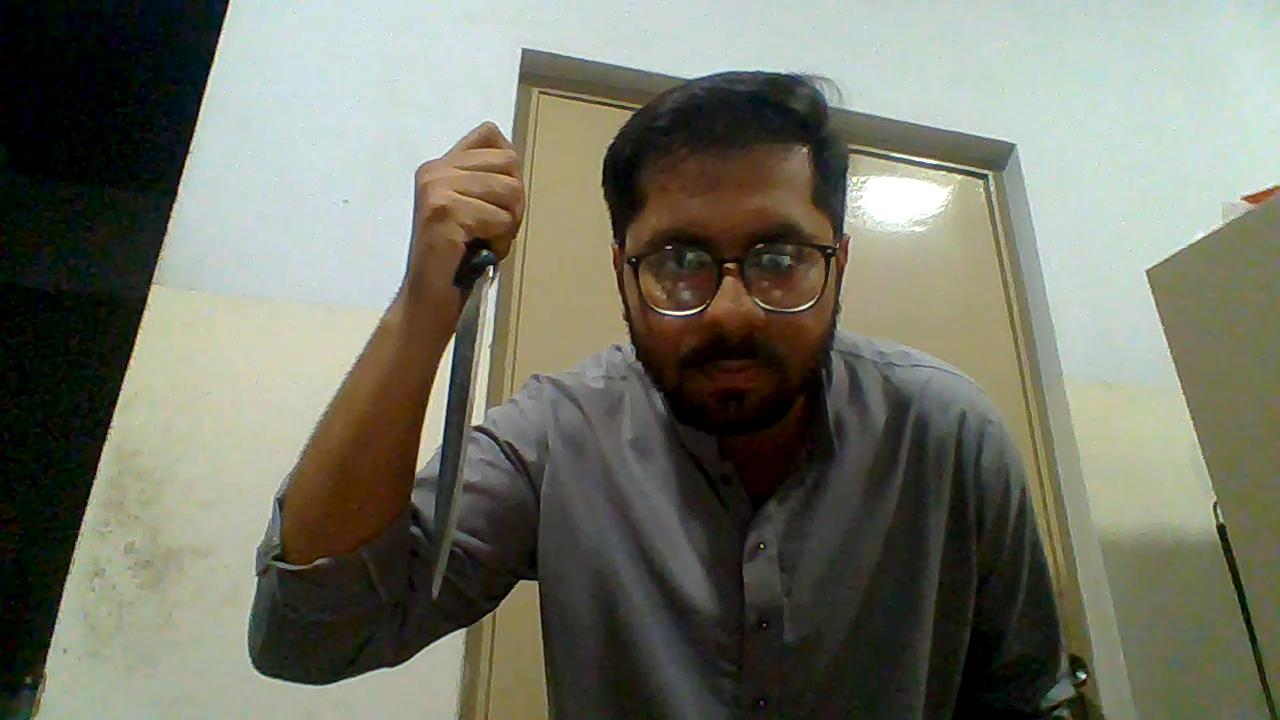criminal: (247, 67, 1082, 720)
weapon: (419, 236, 499, 598)
